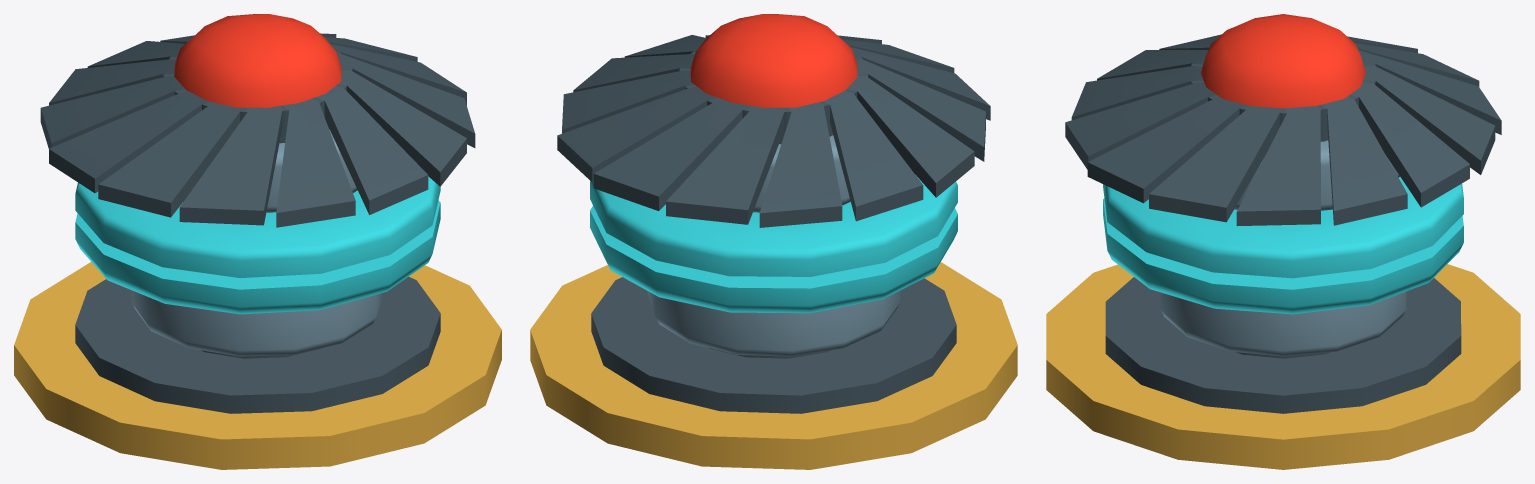
Rendered from Move_01.fbx.
The picture shows the model from 3 angles, left to right: view 1: azimuth 30°, elevation 25°; view 2: azimuth 150°, elevation 25°; view 3: azimuth 270°, elevation 25°; orthographic projection.
Parts seen in each view (by area): view 1: pCylinder26; view 2: pCylinder26; view 3: pCylinder26.
Part boxes in pixels (bbox=[...]): pCylinder26: bbox=[14, 14, 501, 469]; pCylinder26: bbox=[530, 14, 1017, 469]; pCylinder26: bbox=[1046, 14, 1520, 469].
Size of the model in its own units: 6.55 by 5.05 by 6.38.
1 material, 1 textured.
